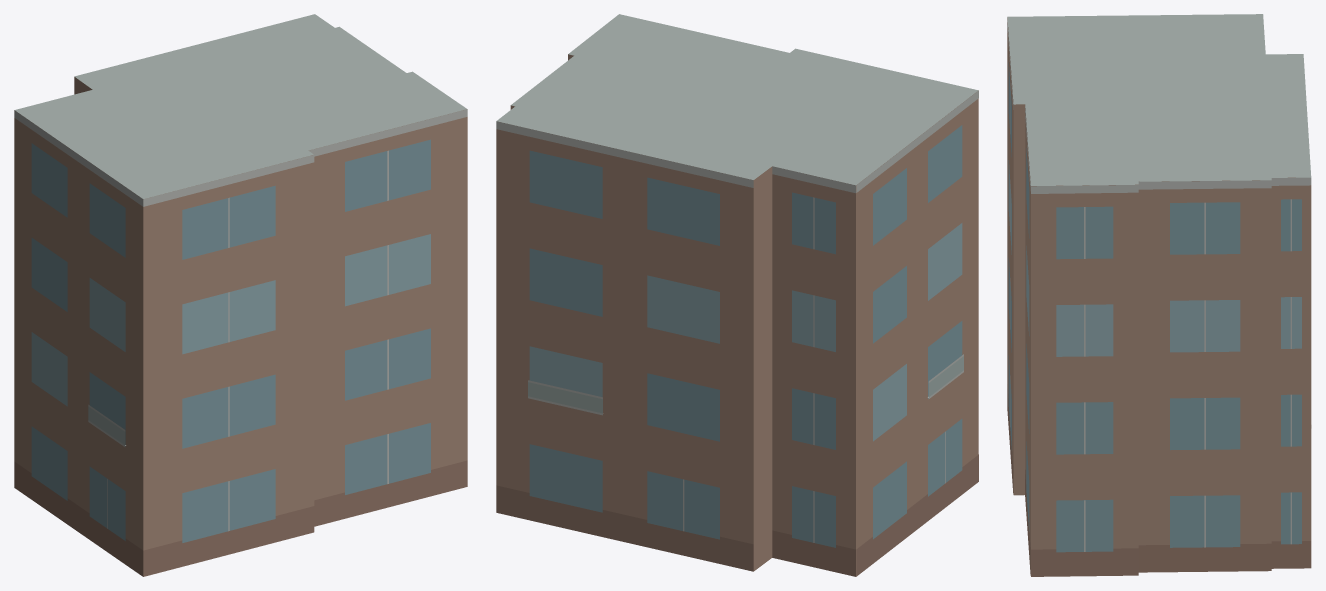
File: survey-upis-33046359.glb
3 renders of one model, left to right at view 1: azimuth 30°, elevation 25°; view 2: azimuth 150°, elevation 25°; view 3: azimuth 270°, elevation 25°, orthographic. The views are drawn at different scales.
Parts seen in each view (by area): view 1: survey-upis-33046359.tmp; view 2: survey-upis-33046359.tmp; view 3: survey-upis-33046359.tmp.
Part boxes in pixels (x1,y1,x2,y2): survey-upis-33046359.tmp: (14,14,467,576); survey-upis-33046359.tmp: (496,14,978,576); survey-upis-33046359.tmp: (1007,14,1311,576).
Bounding box in the file's own units: 11.34 × 12 × 8.48.
